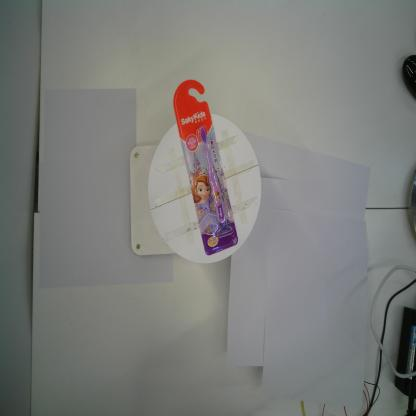Personal Hygiene: (172, 79, 239, 256)
